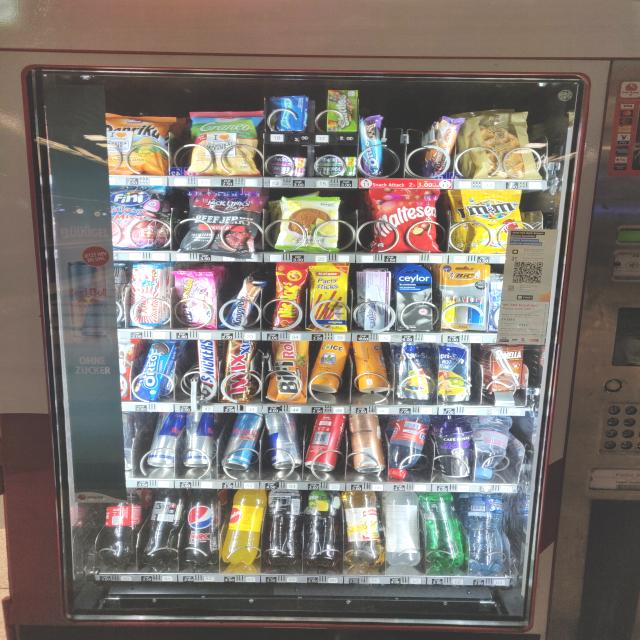airwaves_menthoneucalyptus_riegel_14_1_50173167: (266, 94, 309, 132)
bifi_roll__50__4251097402635: (263, 339, 311, 404)
c-swiss_dosenabisicetea__33__9120025930135: (310, 342, 352, 394), (351, 340, 390, 394)
caferoyal_classicmacchiato__33__7617014164487: (436, 419, 478, 480)
caprisun_multivitamin__20__4000177605004: (436, 344, 480, 402), (397, 346, 436, 402)
coke__dose_33__54491472: (303, 415, 351, 474)
coke__flasche_50__54491472: (96, 488, 146, 563)
coke_zero_flasche_50__5449000131836: (140, 489, 184, 560)
comella_schokodrink__33__7613100037253: (483, 345, 526, 395)
evian___50__3068320353500: (472, 414, 518, 480)
fini_galaxymix_packung_100_1_8410525150364: (102, 188, 166, 249)
fini_jellykisses_packung_80_1_8410525116704: (170, 270, 222, 332)
fuse_lemon__50__5449000235947: (301, 490, 345, 566)
fuse_peach__50__5449000236623: (268, 487, 306, 566)
fuse_peach_dose_33__5449000236623: (351, 414, 383, 476)
henniez_blau__33__7610235000442: (466, 492, 514, 573)
henniez_rot__33__7610235000442: (388, 413, 433, 479)
jacklinks_beefjerkyorginal__25__4047751730219: (187, 187, 268, 254)
jlbrichard_gauffre__90__5410495002000: (468, 109, 540, 181)
kagi_specialedition__50__7610046000259: (128, 262, 168, 328)
knoppers_riegel____4035800488808: (223, 278, 267, 332)
lorenz_nicnacs__40__4018077798818: (271, 262, 311, 330)
malburner_partysticks__40__7610200279682: (307, 265, 349, 333)
maltesers___100__5000159023061: (362, 186, 447, 254)
mnms_gelb__45__40111445: (461, 186, 522, 254)
oreo___66__84100733: (132, 341, 174, 401)
ramseier_schorle__50__7610057012456: (342, 490, 382, 566)
redbull___33__90162909: (139, 412, 183, 471), (262, 413, 305, 470), (184, 412, 220, 466)
redbull_light__33__90162800: (220, 411, 270, 472)
sinalco_orange__50__4018715000112: (222, 489, 270, 567)
skittles_sour_riegel_51_1_0000000000004: (324, 88, 359, 134)
snickers___50__5000159461122: (196, 339, 222, 400)
stimorol_spearmint_riegel_14_1_0000000000005: (314, 154, 358, 177)
stimorol_wildcherry_riegel_14_1_57060330: (270, 153, 310, 175)
twix___50__5000159459228: (220, 338, 258, 403)
valser_classic__50__76404160: (418, 494, 466, 565)
vitaminwell_reload__50__7350042716388: (382, 490, 418, 568)
zweifel_graneochilli__100__7610095184009: (184, 109, 268, 178)
zweifel_paprika__90__7610095013002: (105, 112, 172, 176)
